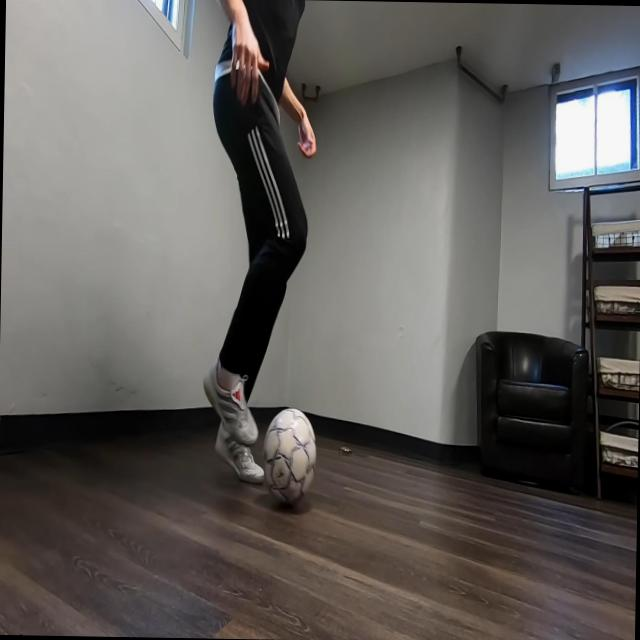Soccer Ball: (262, 407, 317, 506)
